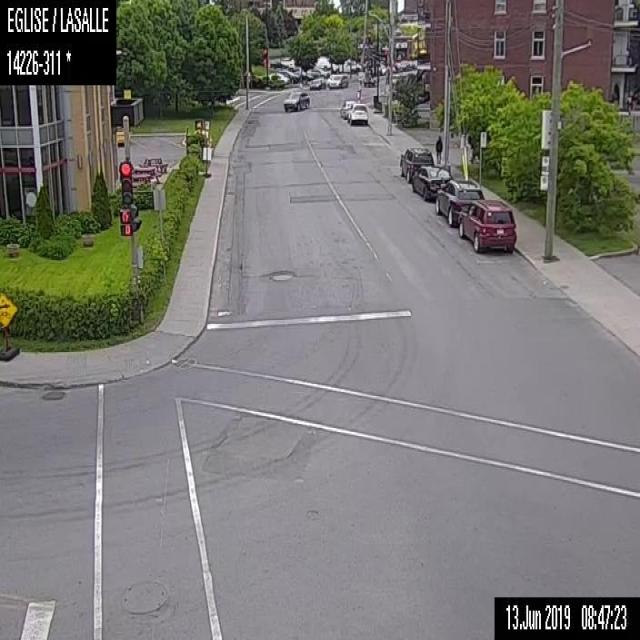pedestrian: (433, 132, 442, 161)
vehicle: (459, 198, 516, 253), (433, 178, 482, 228), (411, 162, 452, 202), (398, 146, 433, 182), (282, 88, 310, 110), (348, 103, 368, 125), (327, 71, 348, 89), (339, 97, 355, 116), (269, 70, 289, 84), (310, 75, 324, 90)
